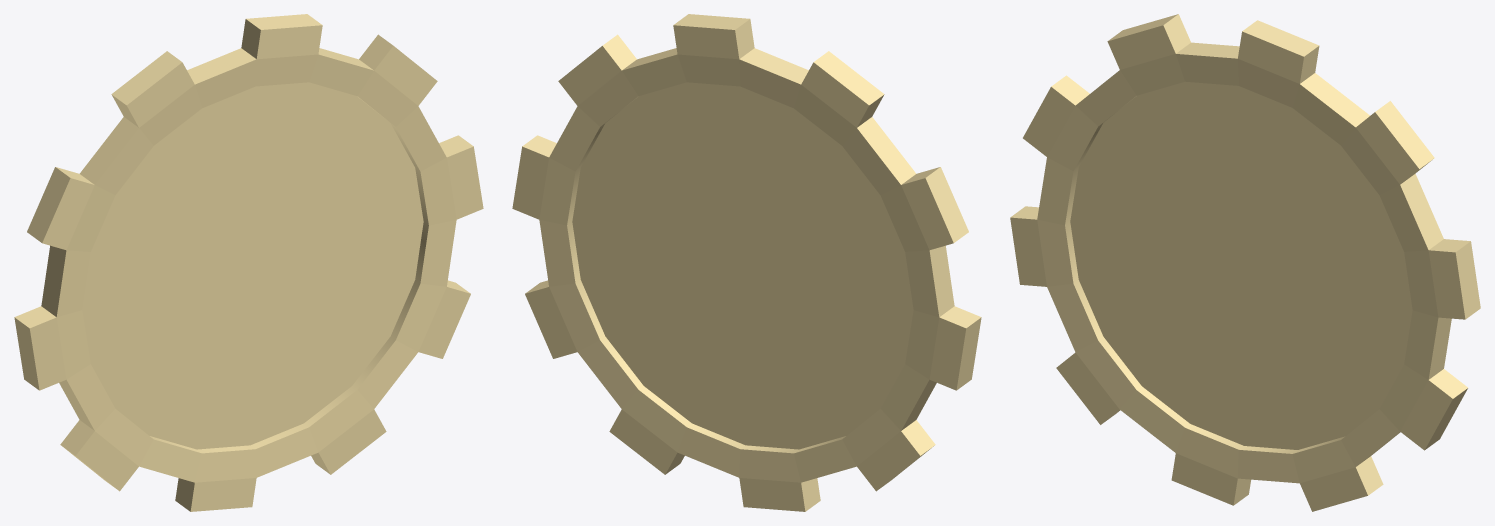
File: coin.fbx
The picture shows the model from 3 angles, left to right: view 1: azimuth 30°, elevation 25°; view 2: azimuth 150°, elevation 25°; view 3: azimuth 330°, elevation 25°; orthographic projection.
Visible parts, largest first — view 1: coin; view 2: coin; view 3: coin.
Boxes of the visible parts, bbox=[...] form: coin: bbox=[14, 14, 483, 511]; coin: bbox=[512, 14, 981, 511]; coin: bbox=[1010, 14, 1480, 511].
Size of the model in its own units: 1.28 by 1.28 by 0.0748.
